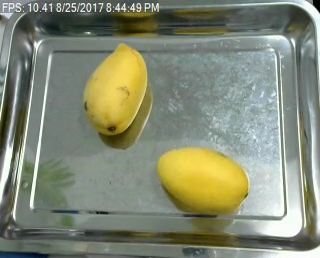Mango: (82, 39, 151, 138), (157, 145, 252, 214)
